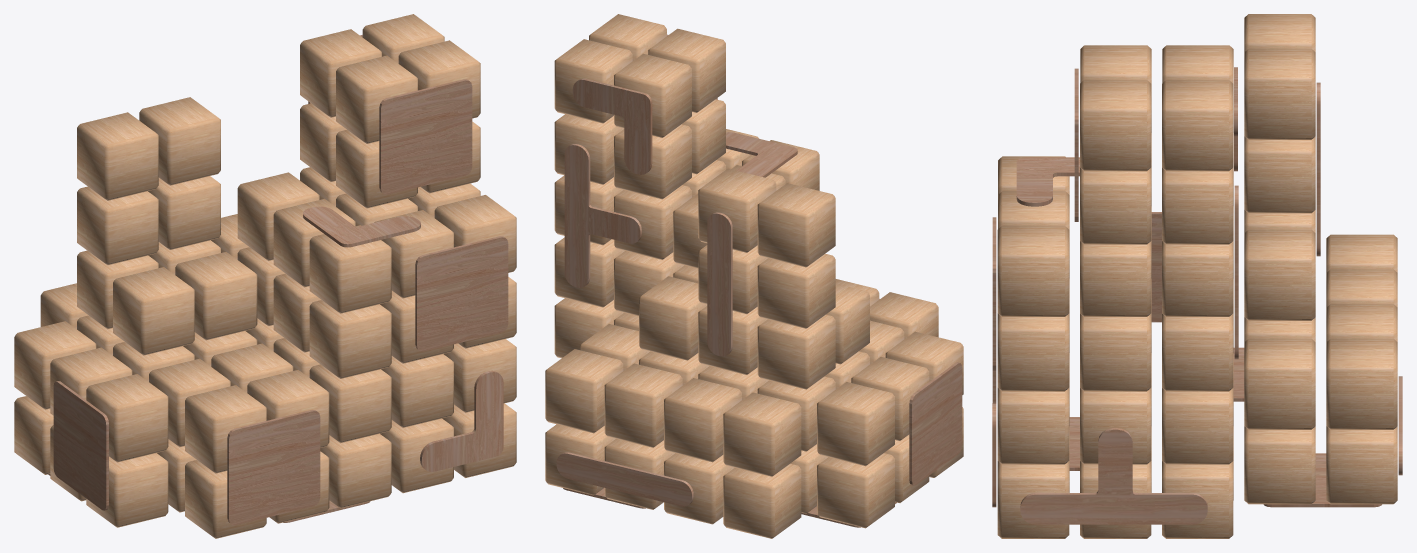
File: level_87.fbx
3 renders of one model, left to right at view 1: azimuth 30°, elevation 25°; view 2: azimuth 150°, elevation 25°; view 3: azimuth 270°, elevation 25°, orthographic. The views are drawn at different scales.
Parts seen in each view (by area): view 1: obj_obs_square.001, obj_obs_square.003, obj_obs_square.002, Cube.098, Cube.082, obj_obs_square.004, Cube.054, Cube.050, Cube.084, Cube.096, Cube.097, Cube.070 (+46 smaller); view 2: Cube.080, Cube.098, Cube.024, obj_obs_T.001, obj_obs_square.004, Cube.073, Cube.096, Cube.014, Cube.083, Cube.078, Cube.120, Cube.079 (+38 smaller); view 3: obj_obs_T.002, Cube.061, Cube.097, Cube.120, Cube.006, Cube.077, Cube.089, Cube.090, Cube.056, Cube.115, Cube.059, Cube.064 (+33 smaller).
Part boxes in pixels (<box>): obj_obs_square.001: <box>379,79,472,194</box>; obj_obs_square.003: <box>227,410,320,525</box>; obj_obs_square.002: <box>415,236,508,351</box>; Cube.098: <box>77,112,158,200</box>; Cube.082: <box>113,267,194,355</box>; obj_obs_square.004: <box>53,381,108,510</box>; Cube.054: <box>309,225,391,313</box>; Cube.050: <box>309,300,391,378</box>; Cube.084: <box>175,252,257,340</box>; Cube.096: <box>77,186,158,265</box>; Cube.097: <box>139,97,220,185</box>; Cube.070: <box>86,374,168,462</box>; Cube.080: <box>723,392,801,476</box>; Cube.098: <box>757,183,835,267</box>; Cube.024: <box>817,382,894,466</box>; obj_obs_T.001: <box>564,144,641,287</box>; obj_obs_square.004: <box>909,362,962,485</box>; Cube.073: <box>723,463,801,538</box>; Cube.096: <box>757,253,835,328</box>; Cube.014: <box>817,453,894,528</box>; Cube.083: <box>757,314,835,389</box>; Cube.078: <box>604,363,682,447</box>; Cube.120: <box>545,349,623,433</box>; Cube.079: <box>664,378,741,462</box>; obj_obs_T.002: <box>1020,428,1207,524</box>; Cube.061: <box>997,225,1069,316</box>; Cube.097: <box>1244,48,1315,139</box>; Cube.120: <box>1326,338,1397,429</box>; Cube.006: <box>1244,338,1315,429</box>; Cube.077: <box>1244,229,1315,320</box>; Cube.089: <box>1080,80,1151,171</box>; Cube.090: <box>1162,80,1233,171</box>; Cube.056: <box>997,313,1069,391</box>; Cube.115: <box>1326,426,1397,504</box>; Cube.059: <box>1080,313,1151,391</box>; Cube.064: <box>1162,313,1233,391</box>.
Bounding box in the file's own units: 13.77 × 13.59 × 11.5.
